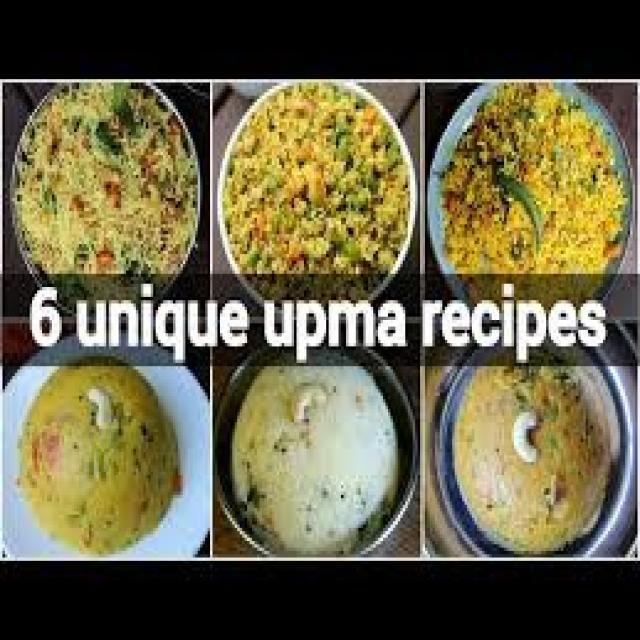POHA: (222, 82, 408, 274), (440, 82, 625, 267), (12, 82, 195, 267)
